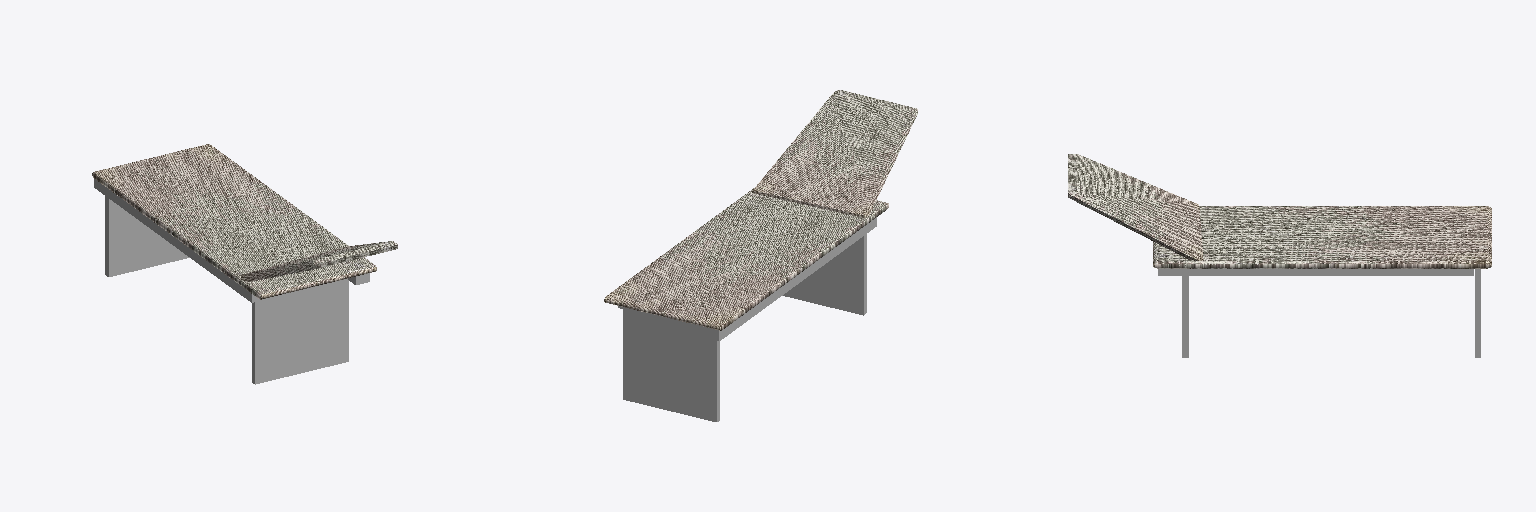
The picture shows the model from 3 angles: view 1: azimuth 30°, elevation 25°; view 2: azimuth 150°, elevation 25°; view 3: azimuth 270°, elevation 25°; orthographic projection.
Visible parts, largest first — view 1: Plane_Material.005, Cube.002_Material.003, Cube.003_Material.004, Plane.001_Material.006, Cube.001_Material.002; view 2: Plane_Material.005, Plane.001_Material.006, Cube.003_Material.004, Cube.002_Material.003, Cube.001_Material.002; view 3: Plane_Material.005, Plane.001_Material.006, Cube_Material.001, Cube.002_Material.003, Cube.003_Material.004.
Boxes of the visible parts, x1,y1,x2,y2 form: Plane_Material.005: [92, 144, 376, 299]; Cube.002_Material.003: [252, 279, 348, 384]; Cube.003_Material.004: [105, 196, 189, 276]; Plane.001_Material.006: [241, 241, 397, 281]; Cube.001_Material.002: [94, 179, 265, 302]; Plane_Material.005: [604, 188, 888, 330]; Plane.001_Material.006: [752, 90, 917, 217]; Cube.003_Material.004: [623, 307, 719, 421]; Cube.002_Material.003: [783, 234, 866, 315]; Cube.001_Material.002: [705, 217, 876, 341]; Plane_Material.005: [1153, 206, 1491, 268]; Plane.001_Material.006: [1068, 154, 1203, 260]; Cube_Material.001: [1158, 269, 1473, 275]; Cube.002_Material.003: [1182, 276, 1188, 357]; Cube.003_Material.004: [1475, 269, 1480, 357].
Size of the model in its own units: 1.4 by 1.83 by 4.35.
6 materials, 1 textured.